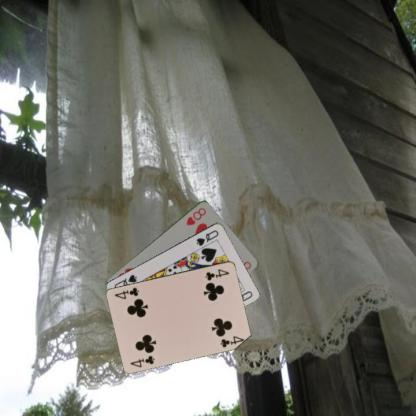4c: (128, 353, 156, 369), (203, 266, 230, 282)
8h: (184, 204, 207, 226)
Qs: (194, 227, 220, 247)
